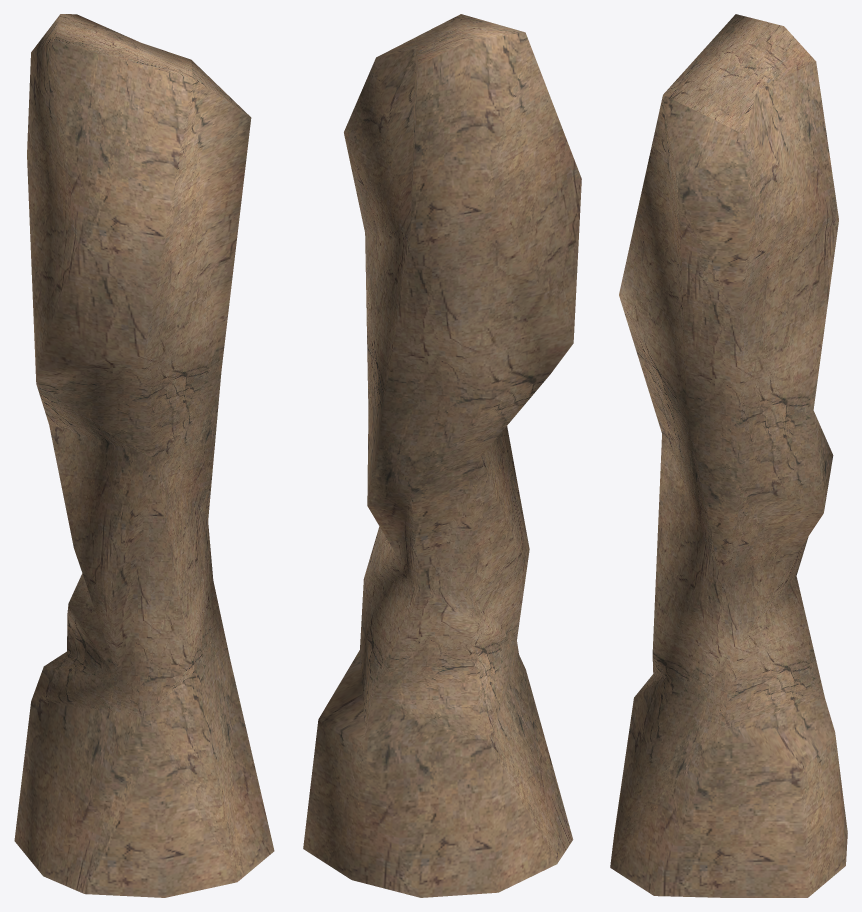
The model's file is rock_tatt_spire_smooth_a1_l2.fbx.
The picture shows the model from 3 angles, left to right: view 1: azimuth 30°, elevation 25°; view 2: azimuth 150°, elevation 25°; view 3: azimuth 270°, elevation 25°; orthographic projection. The views are drawn at different scales.
Parts seen in each view (by area): view 1: mesh_node; view 2: mesh_node; view 3: mesh_node.
Part boxes in pixels (x1,y1,x2,y2): mesh_node: [14, 14, 274, 897]; mesh_node: [303, 14, 581, 897]; mesh_node: [610, 14, 847, 897].
Bounding box in the file's own units: 17.94 × 65.89 × 17.74.
Materials: 1 (1 with a texture image).
